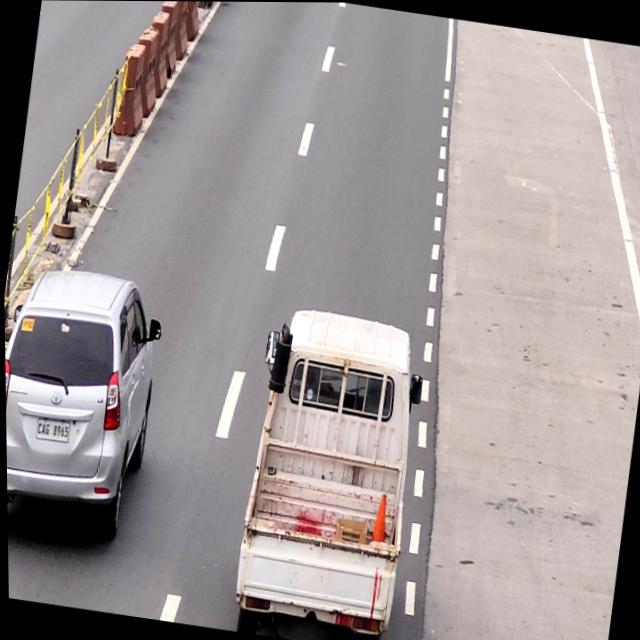Car: (3, 260, 165, 536)
License-Plate: (32, 419, 71, 443)
Truck: (231, 309, 428, 640)
